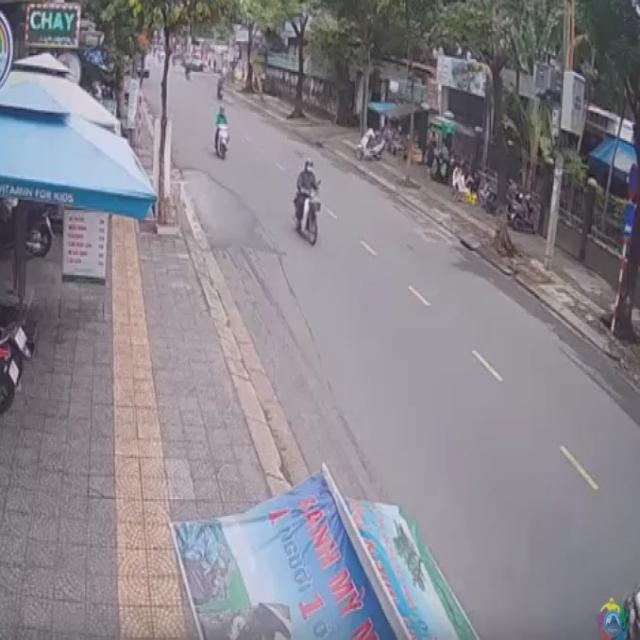motorbike: (294, 156, 320, 247), (213, 105, 229, 159)
